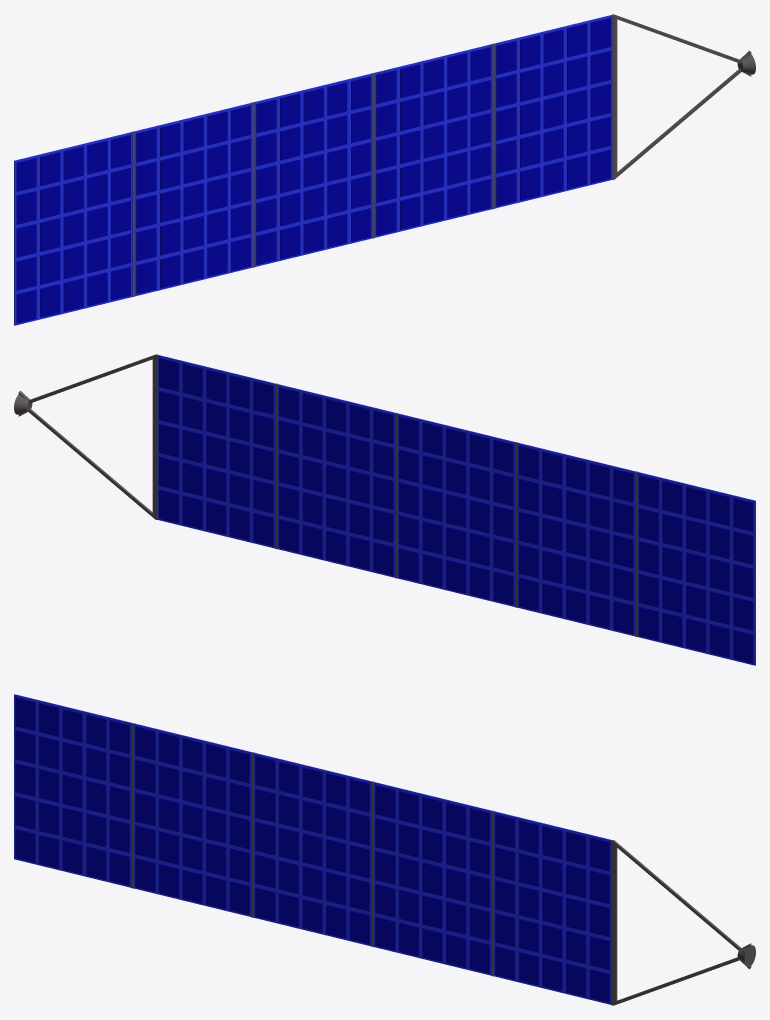
The model's file is solar_panel.obj.
The picture shows the model from 3 angles, top to bottom: view 1: azimuth 30°, elevation 25°; view 2: azimuth 150°, elevation 25°; view 3: azimuth 330°, elevation 25°; orthographic projection.
Parts seen in each view (by area): view 1: obj; view 2: obj; view 3: obj.
Part boxes in pixels (box(x1,y1,x2,y2)): obj: box(14, 14, 755, 325); obj: box(14, 354, 755, 665); obj: box(14, 694, 755, 1005).
Size of the model in its own units: 2.25 by 0.48 by 0.06.
